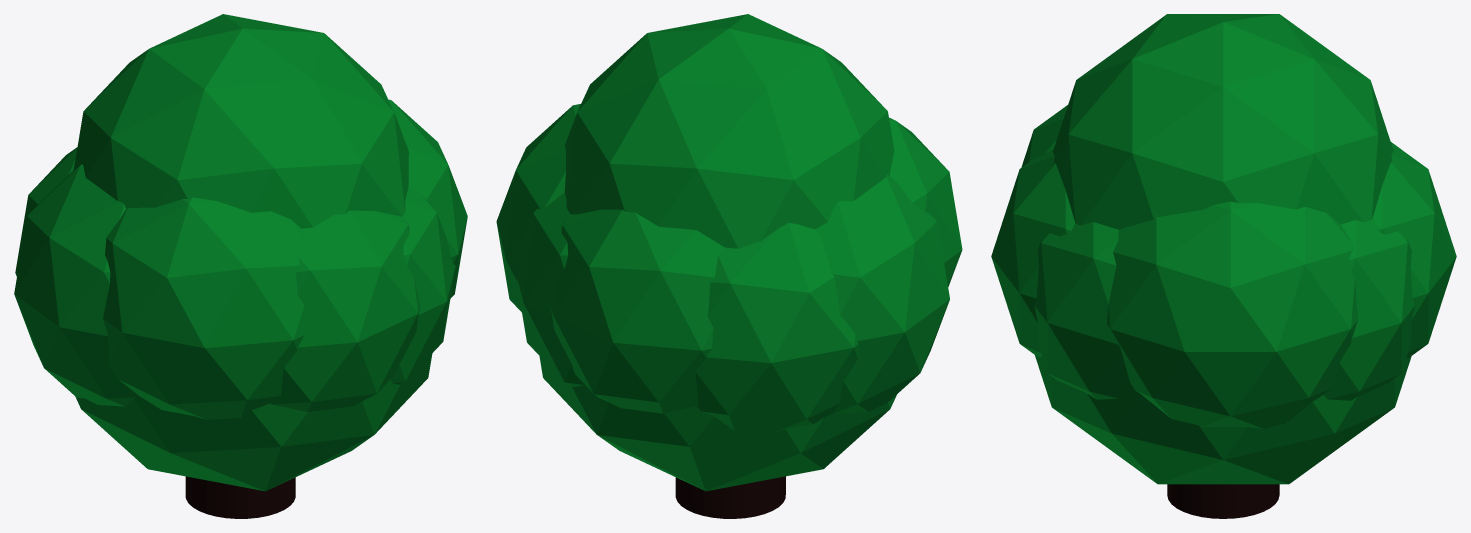
The model's file is Low_High_Leaf_Tree.glb.
3 views of the same model, side by side, from view 1: azimuth 30°, elevation 25°; view 2: azimuth 150°, elevation 25°; view 3: azimuth 270°, elevation 25° (orthographic).
Visible parts, largest first — view 1: Icosphere, Icosphere.006, Icosphere.004, Icosphere.005, Icosphere.001, Icosphere.009, Icosphere.002, Cylinder, Icosphere.008; view 2: Icosphere, Icosphere.003, Icosphere.008, Icosphere.001, Icosphere.005, Icosphere.007, Icosphere.002, Icosphere.006, Cylinder; view 3: Icosphere, Icosphere.002, Icosphere.005, Icosphere.009, Icosphere.007, Icosphere.004, Icosphere.003, Cylinder, Icosphere.006.
Part boxes in pixels (x1,y1,x2,y2): Icosphere: (73,14,408,228); Icosphere.006: (103,197,304,419); Icosphere.004: (270,210,420,411); Icosphere.005: (75,354,432,491); Icosphere.001: (14,164,138,406); Icosphere.009: (390,186,455,384); Icosphere.002: (388,99,467,298); Cylinder: (185,476,295,518); Icosphere.008: (15,147,77,276); Icosphere: (564,14,894,248); Icosphere.003: (550,209,724,413); Icosphere.008: (695,223,858,432); Icosphere.001: (815,174,949,413); Icosphere.005: (539,356,896,491); Icosphere.007: (517,193,584,386); Icosphere.002: (496,104,580,312); Icosphere.006: (889,117,962,286); Cylinder: (675,476,785,518); Icosphere: (1053,14,1393,229); Icosphere.002: (1107,201,1357,428); Icosphere.005: (1035,355,1411,484); Icosphere.009: (1034,222,1129,399); Icosphere.007: (1324,213,1414,400); Icosphere.004: (991,149,1074,357); Icosphere.003: (1374,142,1456,358); Cylinder: (1167,484,1279,518); Icosphere.006: (1021,105,1067,167).
Bounding box in the file's own units: 8.54 × 9.32 × 8.29.
